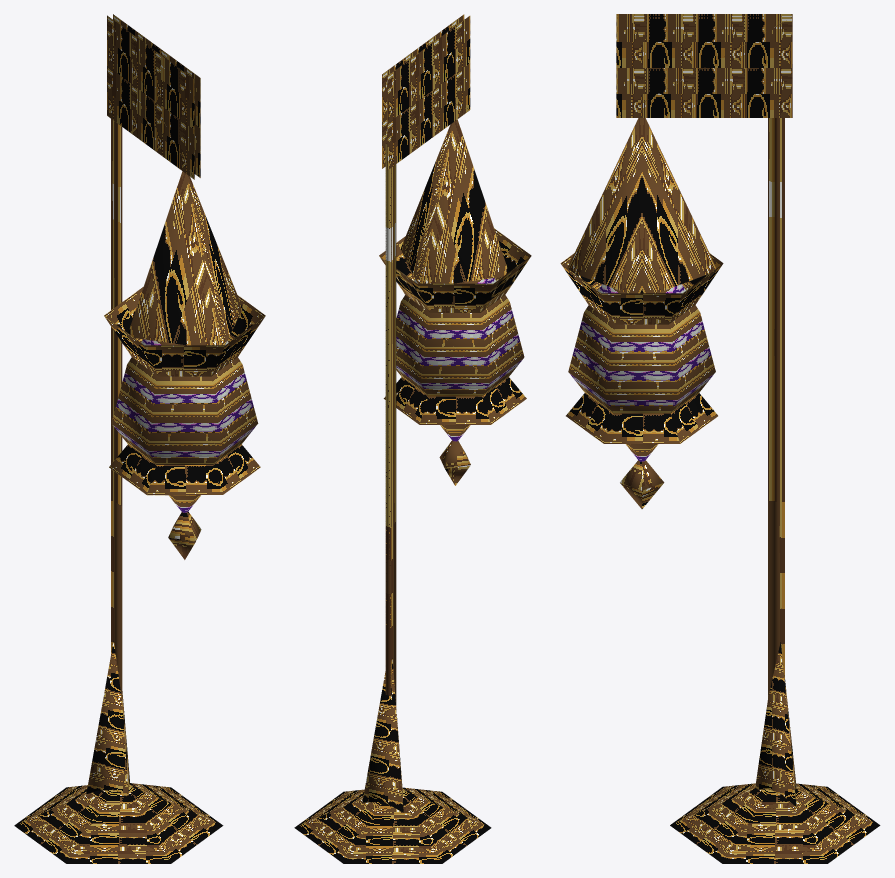
Rendered from 3725kg_ar_lig.gltf.
3 views of the same model, side by side, from view 1: azimuth 30°, elevation 25°; view 2: azimuth 150°, elevation 25°; view 3: azimuth 270°, elevation 25° (orthographic). The views are drawn at different scales.
Parts seen in each view (by area): view 1: 3725kg_ar_lig; view 2: 3725kg_ar_lig; view 3: 3725kg_ar_lig.
Part boxes in pixels (x1=…): 3725kg_ar_lig: x1=14, y1=14, x2=265, y2=863; 3725kg_ar_lig: x1=294, y1=14, x2=531, y2=863; 3725kg_ar_lig: x1=560, y1=14, x2=880, y2=863.
Size of the model in its own units: 0.4082 by 2 by 0.7156.
3 materials, 3 textured.
